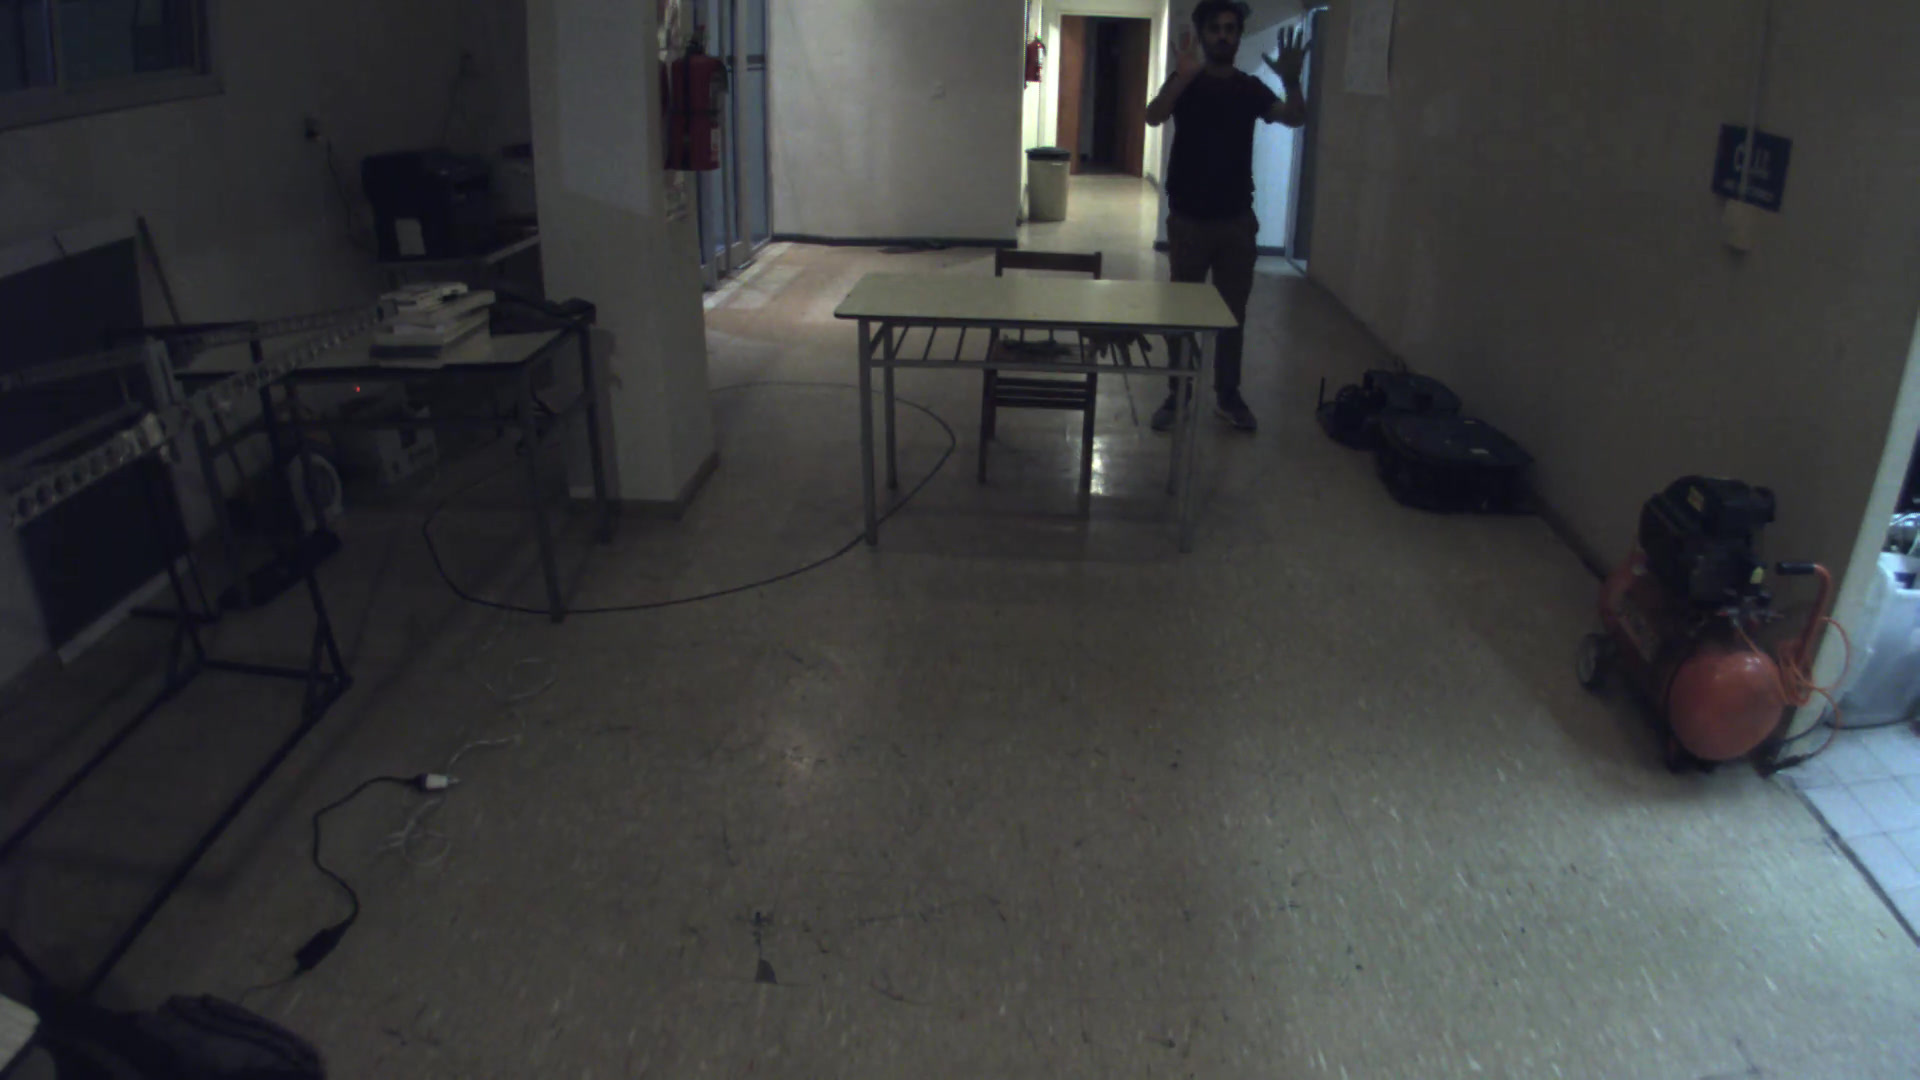hand: (1255, 22, 1323, 90), (1158, 28, 1222, 96)
